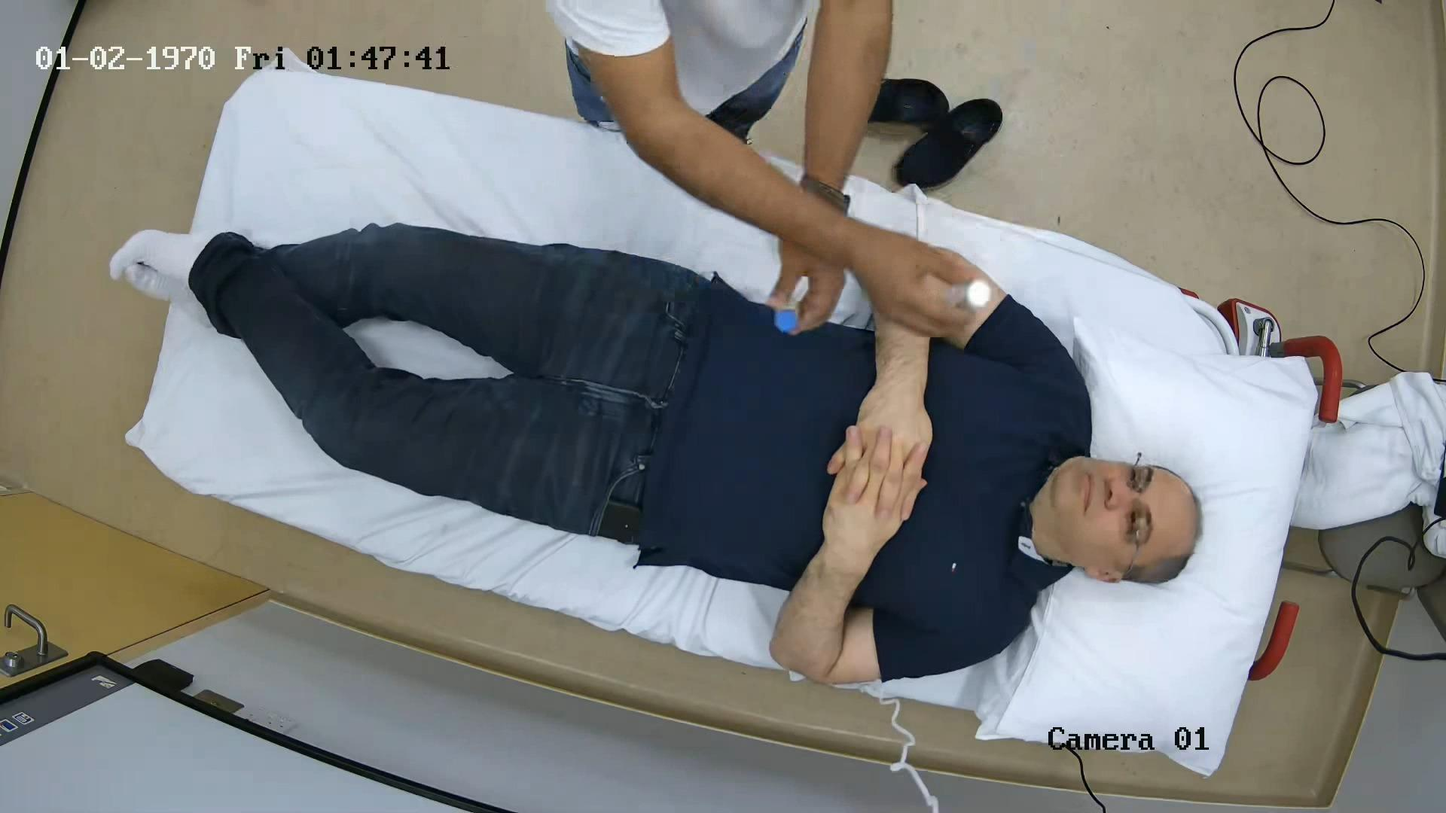augmentin: (946, 279, 993, 314)
bed: (127, 70, 1339, 775)
cefazolin: (774, 309, 797, 333)
patient: (180, 224, 1200, 684)
